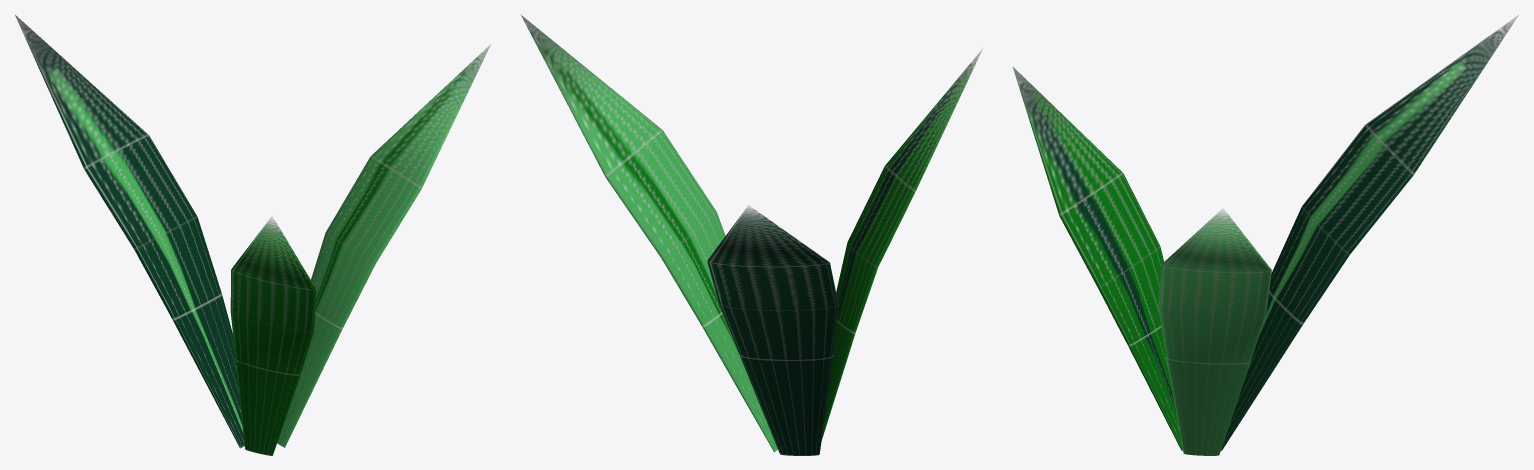
The model's file is BoardGrass.fbx.
The picture shows the model from 3 angles, left to right: view 1: azimuth 30°, elevation 25°; view 2: azimuth 150°, elevation 25°; view 3: azimuth 270°, elevation 25°; orthographic projection. The views are drawn at different scales.
Visible parts, largest first — view 1: pCone13; view 2: pCone13; view 3: pCone13.
Boxes of the visible parts, bbox=[...] form: pCone13: bbox=[15, 15, 490, 455]; pCone13: bbox=[520, 14, 983, 455]; pCone13: bbox=[1012, 15, 1518, 455].
Bounding box in the file's own units: 0.5214 × 0.5143 × 0.6176.
